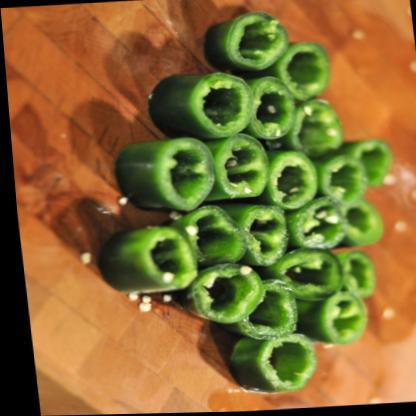--: (102, 137, 221, 216), (142, 70, 261, 140), (93, 223, 194, 299), (220, 328, 317, 399), (200, 4, 296, 73), (172, 261, 263, 328), (280, 198, 351, 254)
